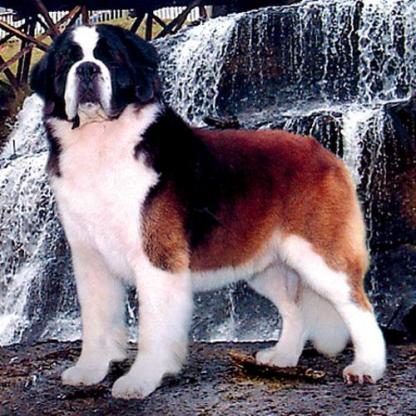Saint_Bernard: (34, 20, 384, 402)
